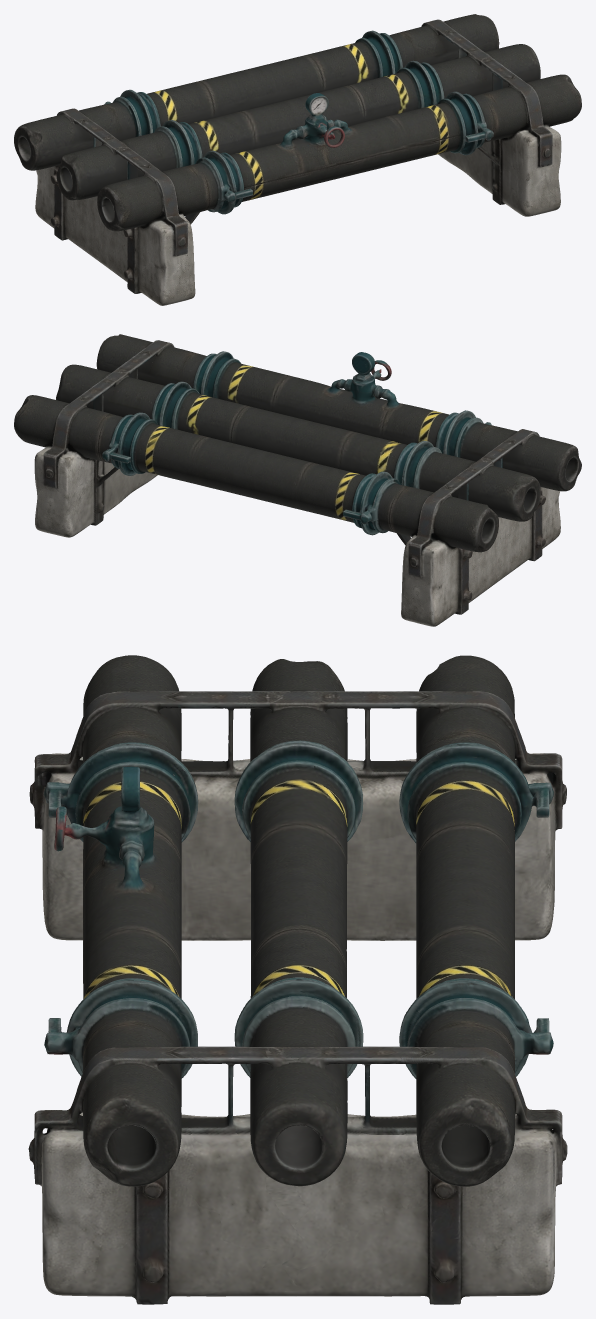
The model's file is Meshy_AI_Industrial_Pipe_Manif_1023111317_texture.glb.
The picture shows the model from 3 angles, top to bottom: view 1: azimuth 30°, elevation 25°; view 2: azimuth 150°, elevation 25°; view 3: azimuth 270°, elevation 25°; orthographic projection. The views are drawn at different scales.
Bounding box in the file's own units: 1.9 × 0.6144 × 0.955.
1 material, 1 textured.
